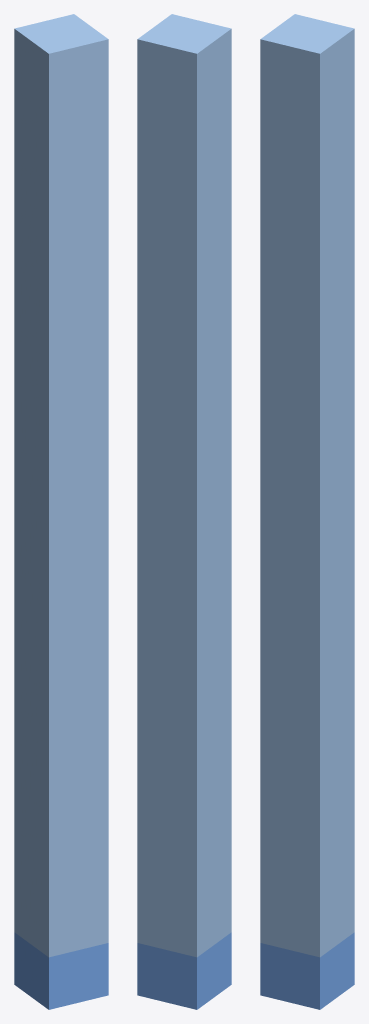
The model's file is pyprt_gltf_output_0.glb.
3 views of the same model, side by side, from view 1: azimuth 30°, elevation 25°; view 2: azimuth 150°, elevation 25°; view 3: azimuth 330°, elevation 25° (orthographic).
Parts seen in each view (by area): view 1: mesh_CityEngineMaterial_1, mesh_CityEngineMaterial; view 2: mesh_CityEngineMaterial_1, mesh_CityEngineMaterial; view 3: mesh_CityEngineMaterial_1, mesh_CityEngineMaterial.
Boxes of the visible parts, x1,y1,x2,y2 form: mesh_CityEngineMaterial_1: (14,14,108,957); mesh_CityEngineMaterial: (14,932,108,1009); mesh_CityEngineMaterial_1: (137,14,231,957); mesh_CityEngineMaterial: (137,932,231,1009); mesh_CityEngineMaterial_1: (260,14,354,957); mesh_CityEngineMaterial: (260,932,354,1009).
Bounding box in the file's own units: 10 × 153 × 10.
